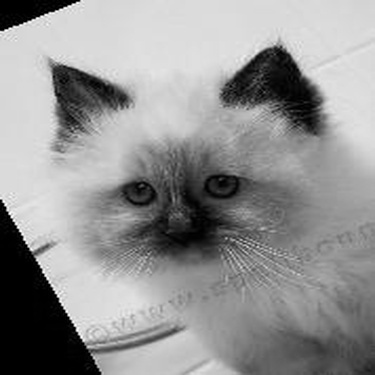cat: (42, 41, 367, 369)
